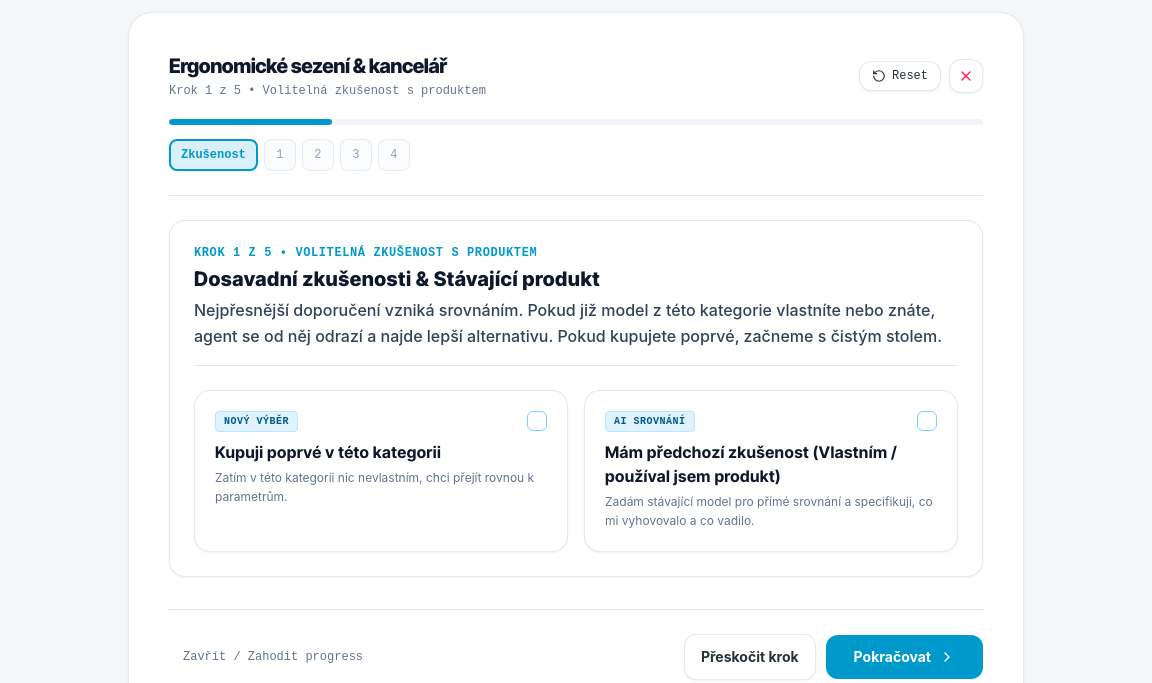
DynamicAgentWizard Unit Test Suite (PRD v1) › 3. Po odeslání zobrazí textová doporučení dle PRD (Značka, model, reasoning, pros, cons)
Click the button "Pokračovat" at [904, 656], box [826,634,983,678]
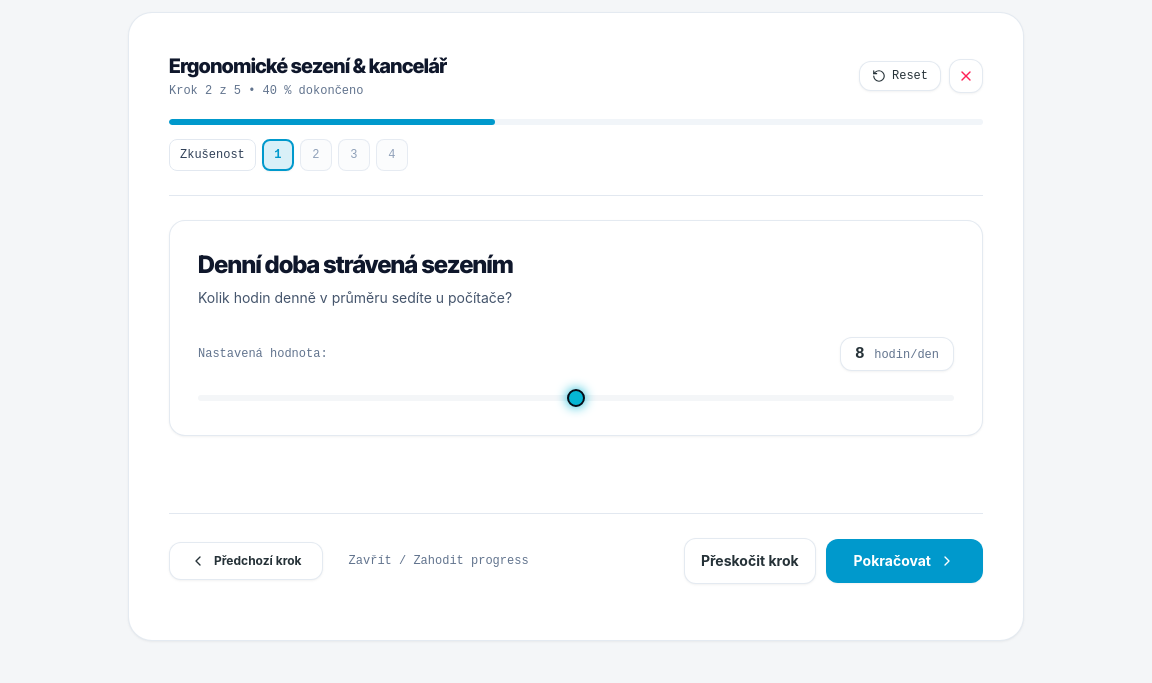
Click the button "Pokračovat" at [904, 560], box [826,538,983,582]
(page scrolled)
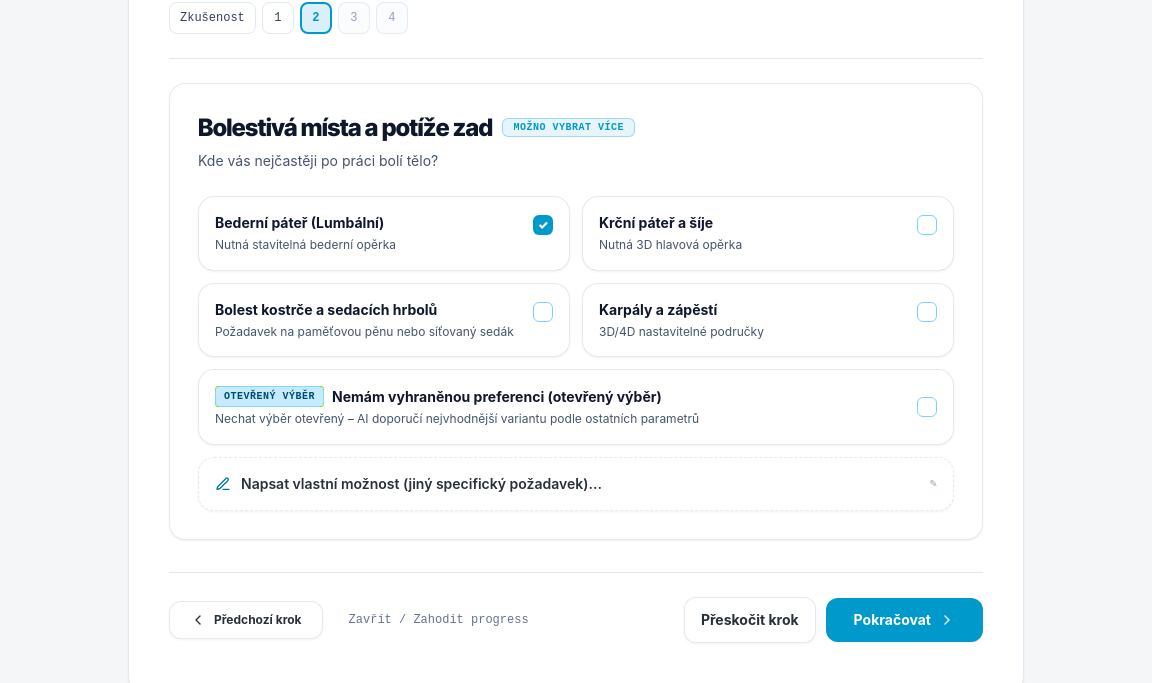
Click the button "Pokračovat" at [904, 620], box [826,598,983,642]
(page scrolled)
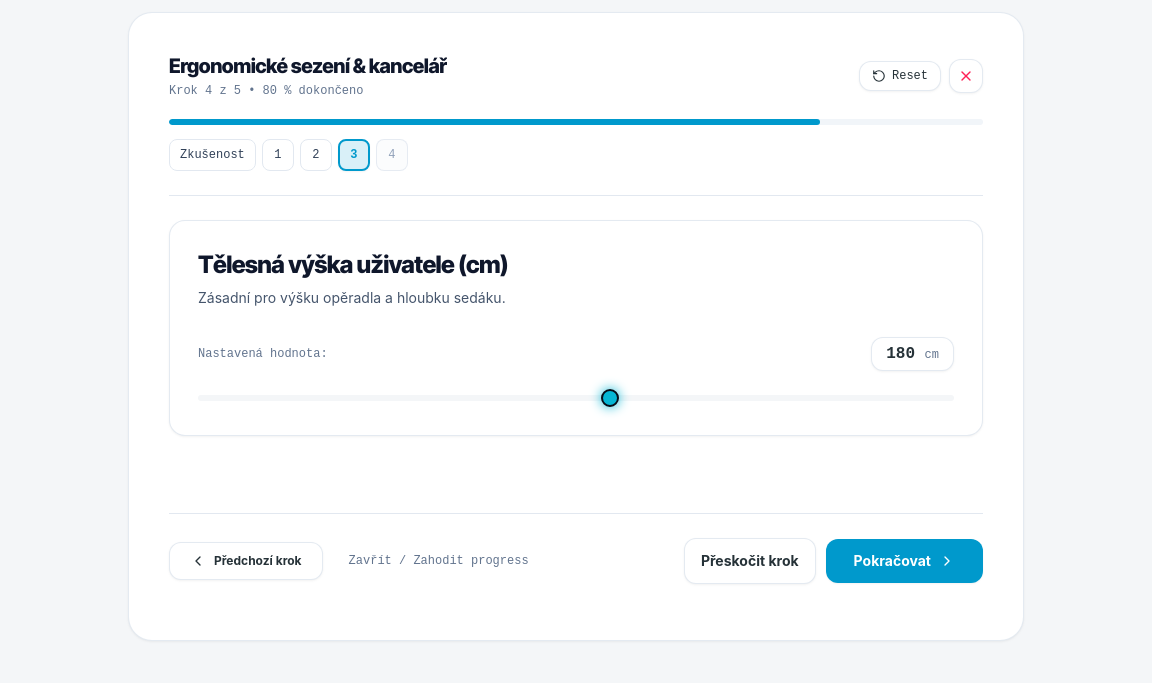
Click the button "Pokračovat" at [904, 560], box [826,538,983,582]
(page scrolled)
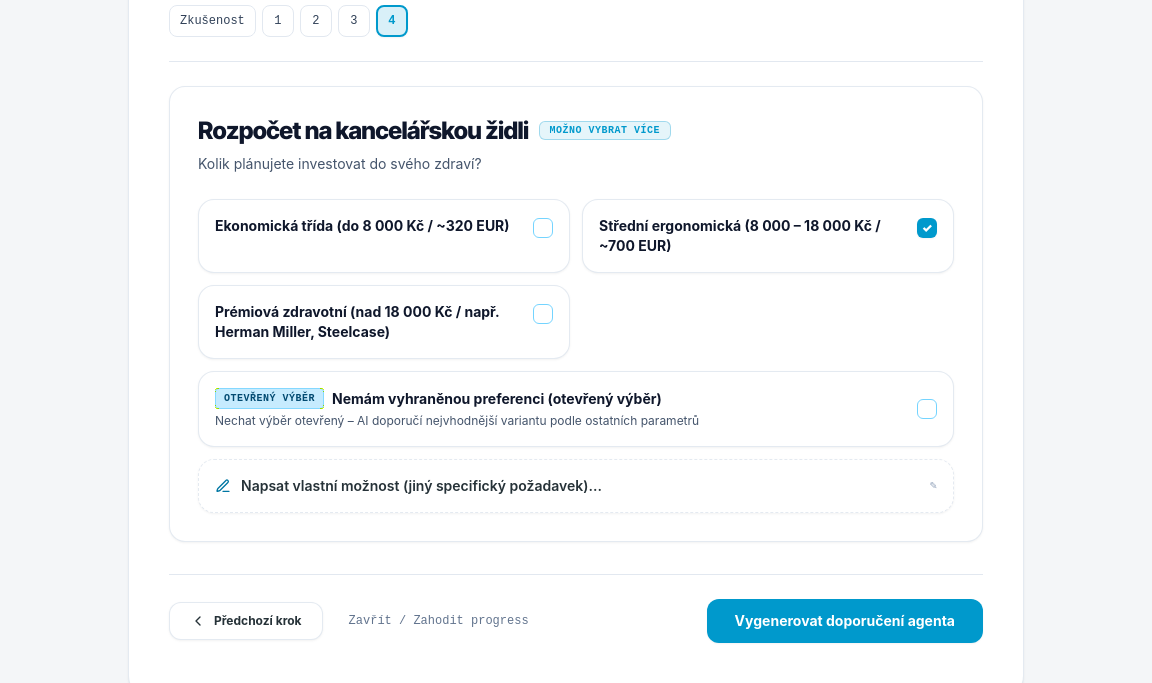
Click the button "Vygenerovat doporučení agenta" at [845, 621], box [707,599,983,643]
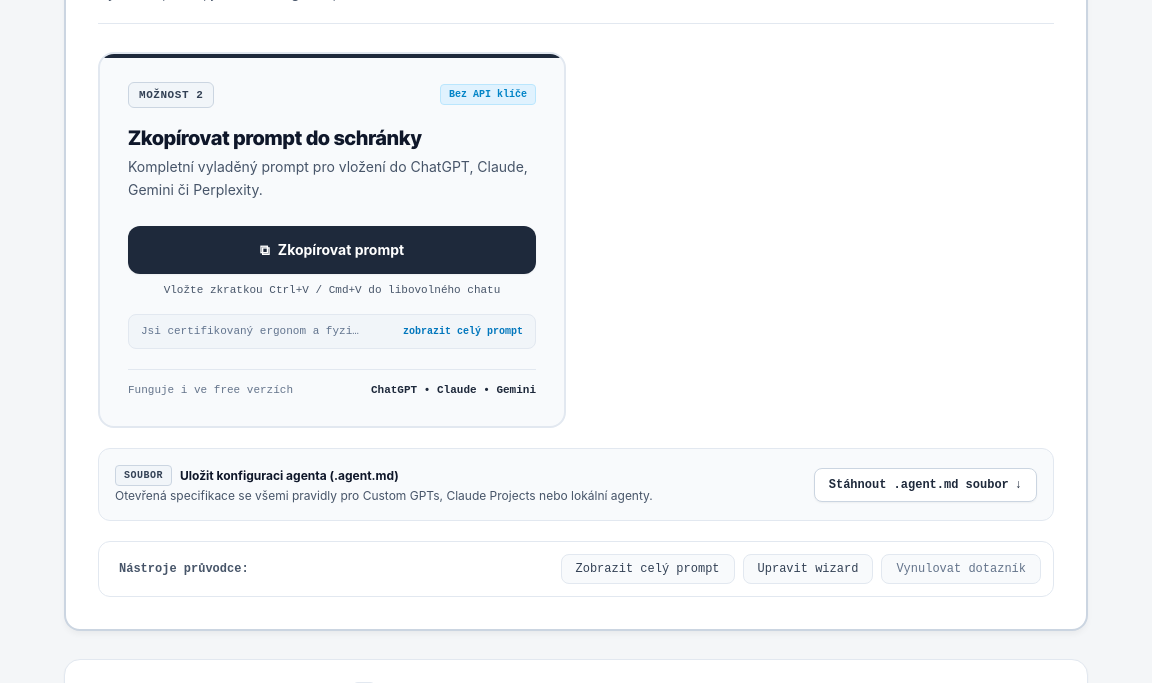
Expected: the text "Stáhnout .agent.md soubor" is shown, [829,476,1009,492]
Expected: the button "Herman Miller" is gone
